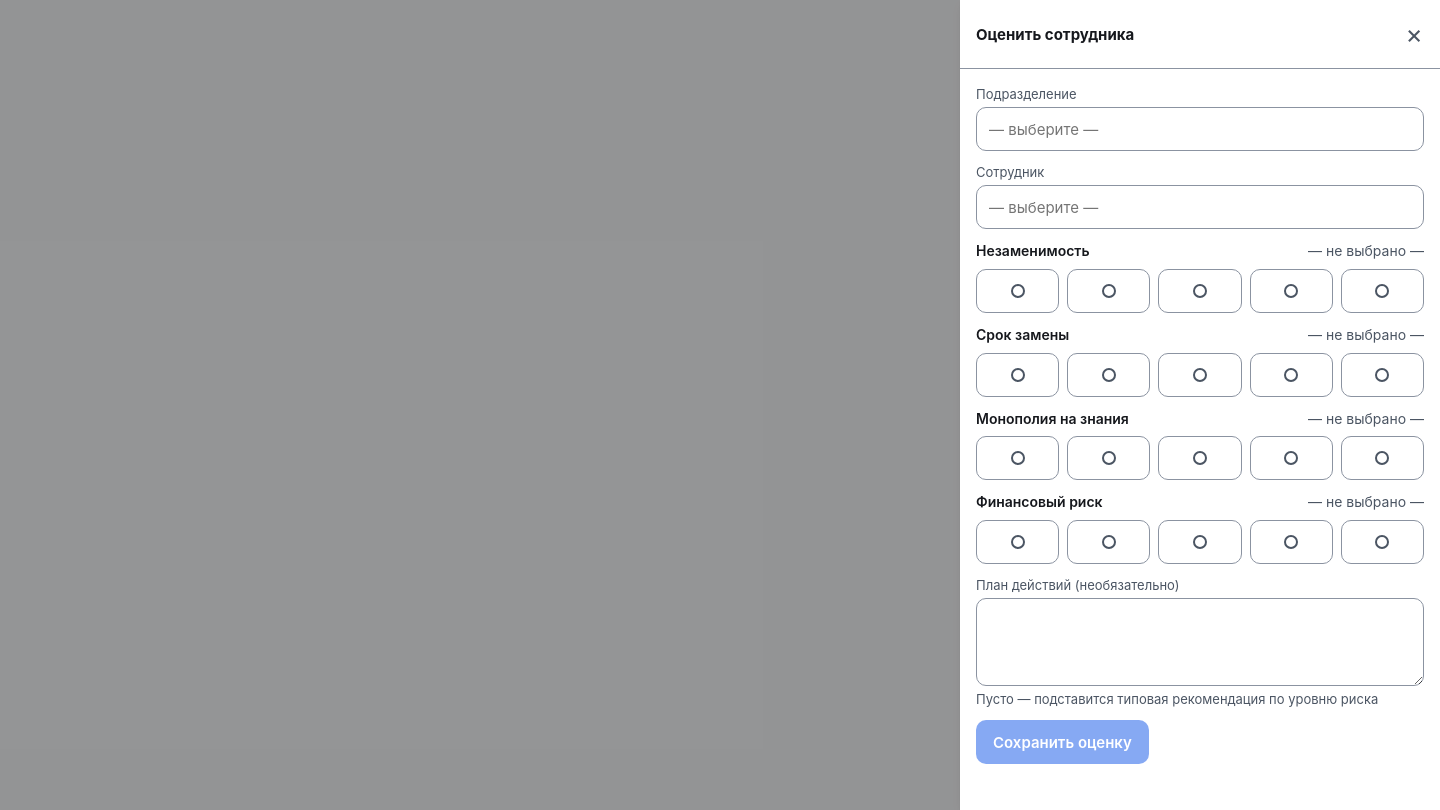
выбор подразделения подгружает сотрудников этого юнита
Click the dropdown labelled "Подразделение" at (1200, 129), box [976,107,1424,151]
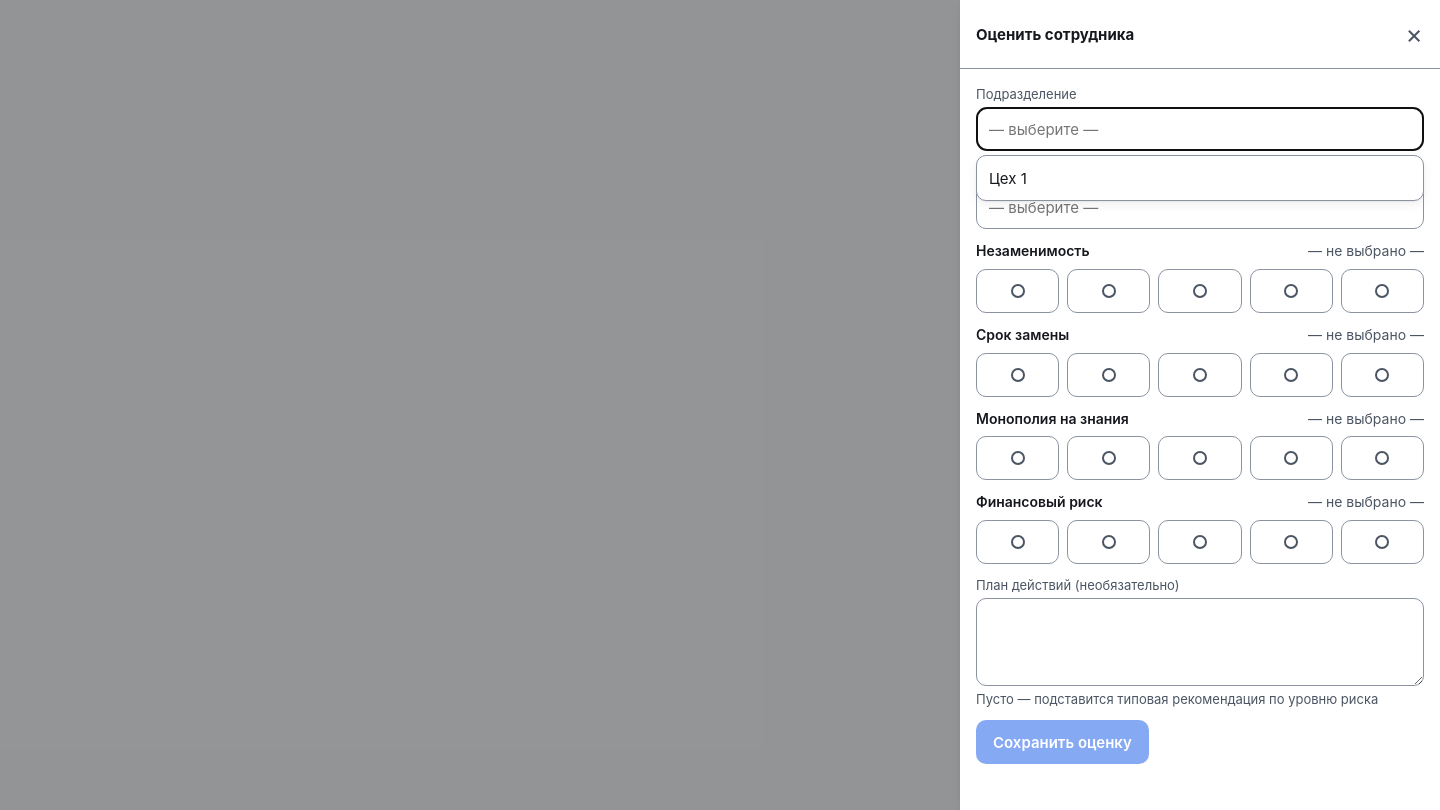
Click the option "Цех 1" at (1008, 178), box [989,169,1027,188]
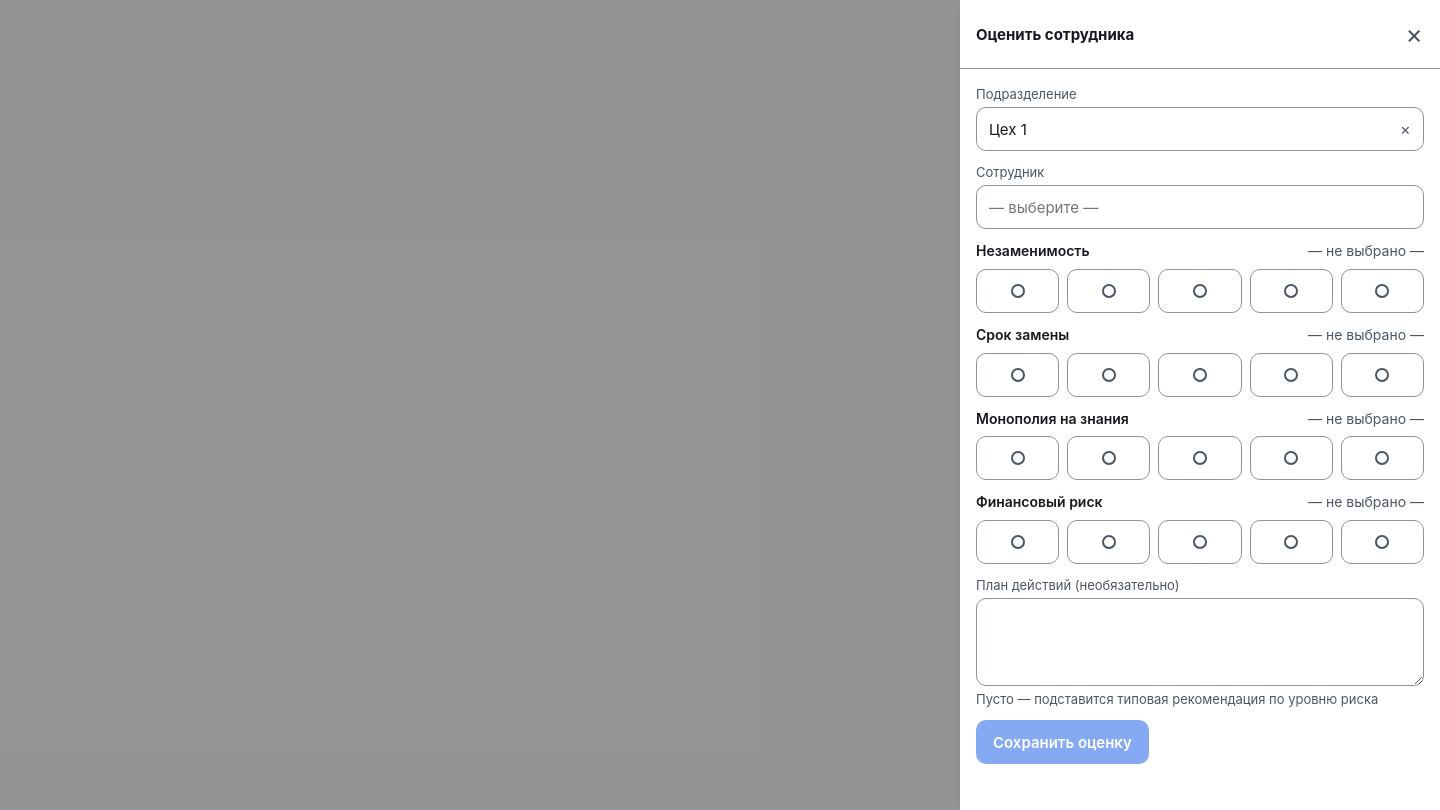
Click the dropdown labelled "Сотрудник" at (1200, 207), box [976,185,1424,229]
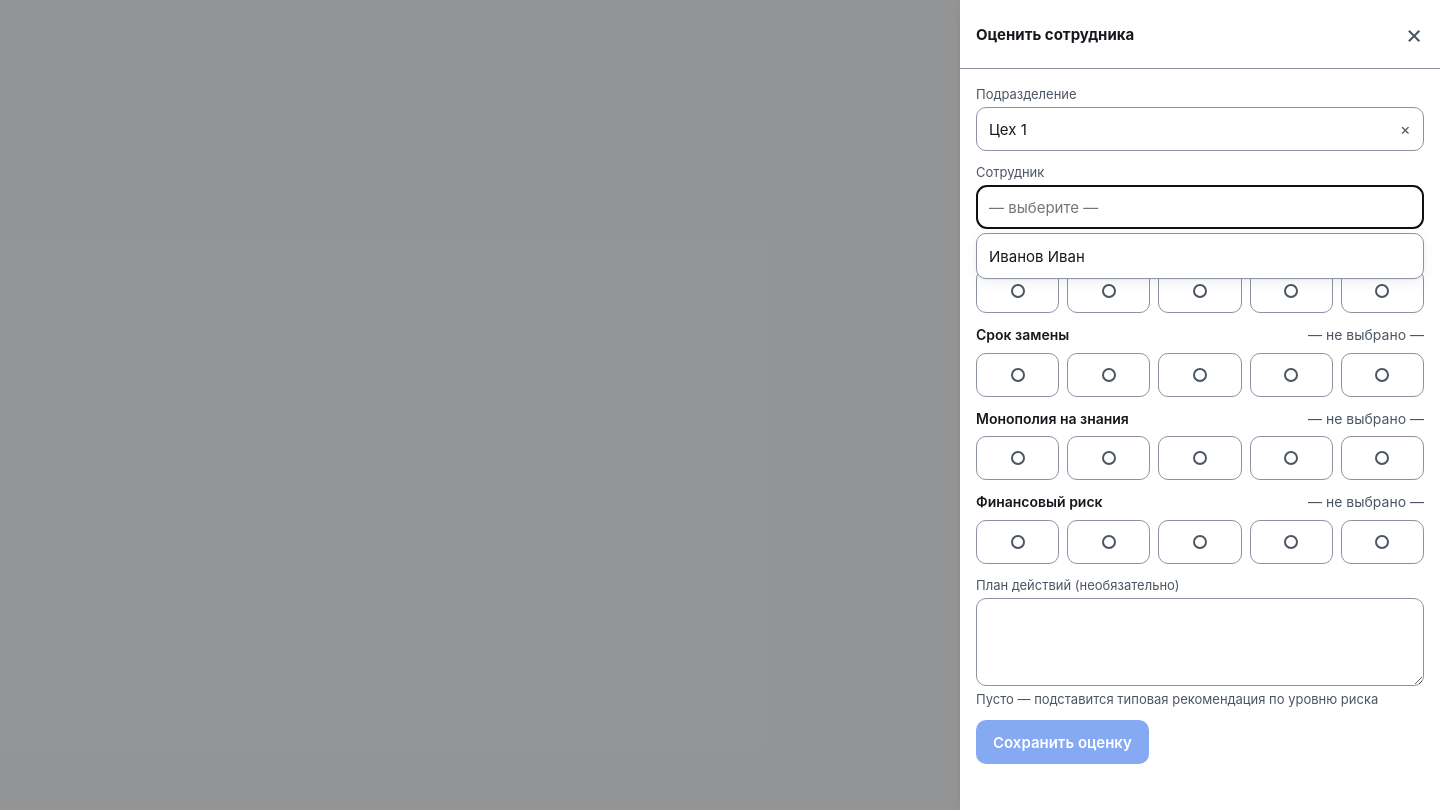
Check: the option "Иванов Иван" is shown, box [989,247,1085,266]
